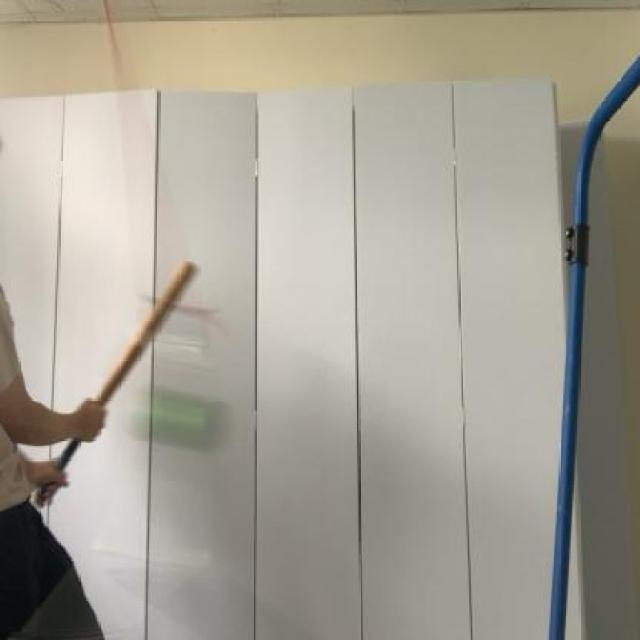baseball: (128, 378, 240, 453)
